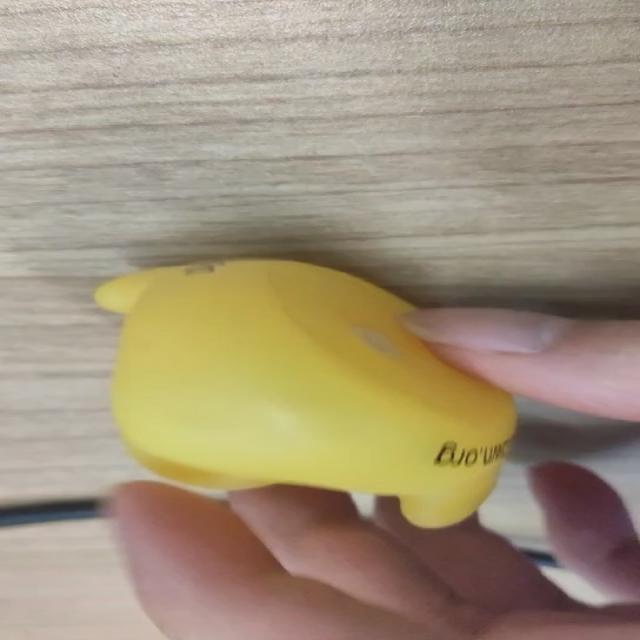rubber-duck: (94, 259, 514, 525)
